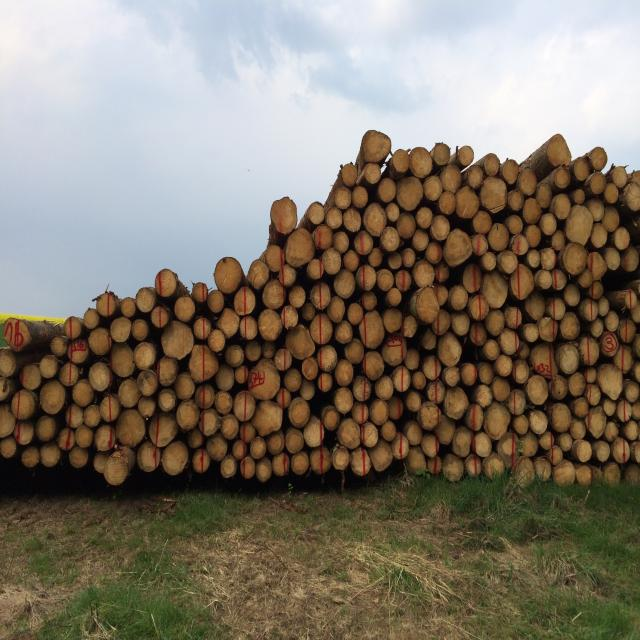wood-log: (248, 360, 282, 401), (413, 285, 447, 325), (162, 321, 195, 360), (188, 343, 220, 382), (116, 408, 148, 446), (564, 205, 593, 246), (102, 446, 132, 485), (288, 228, 316, 268), (480, 177, 509, 215), (445, 229, 474, 267), (255, 401, 285, 437), (216, 257, 245, 294), (150, 411, 179, 448), (272, 196, 300, 234), (76, 369, 104, 407), (363, 130, 394, 164), (485, 401, 512, 440), (288, 324, 317, 360), (361, 309, 387, 348), (482, 271, 510, 307), (510, 262, 536, 300), (599, 364, 625, 402), (162, 440, 190, 475), (444, 388, 473, 421), (39, 379, 67, 413), (398, 177, 425, 212), (108, 343, 135, 377), (554, 342, 581, 376), (547, 132, 573, 167), (562, 242, 588, 276), (439, 333, 465, 366), (528, 341, 553, 375), (454, 185, 480, 217), (383, 335, 408, 368), (12, 390, 38, 421), (260, 309, 284, 342), (371, 440, 394, 474), (363, 202, 387, 234), (234, 390, 258, 422), (175, 402, 200, 432), (333, 268, 357, 299), (339, 417, 362, 449), (219, 364, 247, 390), (526, 374, 550, 404), (524, 292, 548, 322), (549, 402, 572, 433), (90, 362, 113, 393), (138, 440, 160, 472), (462, 261, 484, 293), (310, 315, 332, 347), (580, 335, 602, 367), (20, 363, 44, 392), (158, 356, 182, 385), (587, 406, 608, 439), (89, 326, 112, 356), (288, 398, 311, 428), (157, 268, 180, 298), (444, 453, 467, 483), (264, 276, 286, 307), (118, 378, 140, 409), (248, 260, 270, 291), (436, 414, 458, 445), (412, 147, 433, 179), (624, 172, 640, 214), (454, 426, 475, 458), (361, 350, 384, 379), (485, 452, 508, 481), (234, 286, 256, 316), (206, 435, 229, 463), (136, 368, 159, 396), (441, 164, 463, 193), (560, 310, 581, 340), (488, 222, 509, 252), (218, 308, 239, 338), (411, 444, 431, 475), (174, 295, 196, 323), (37, 414, 59, 442), (134, 341, 156, 369), (174, 374, 196, 402), (414, 260, 436, 288), (330, 394, 352, 422), (190, 376, 212, 404), (518, 166, 539, 195), (390, 149, 411, 178), (264, 242, 284, 272), (517, 432, 540, 458), (0, 404, 17, 439), (110, 315, 132, 342), (68, 338, 90, 365), (417, 325, 439, 352), (214, 364, 235, 392), (495, 430, 513, 462), (333, 387, 355, 413), (196, 382, 218, 408), (98, 292, 120, 318), (306, 420, 325, 450), (522, 198, 543, 225), (73, 379, 94, 406), (485, 309, 506, 336), (571, 156, 592, 183), (321, 248, 341, 276), (101, 395, 121, 423), (473, 208, 494, 234), (317, 345, 338, 371), (419, 403, 440, 429), (467, 294, 488, 320), (383, 308, 404, 334), (378, 175, 398, 202), (600, 205, 620, 232), (499, 329, 519, 356), (352, 375, 372, 402), (274, 345, 294, 372), (95, 424, 114, 452), (314, 223, 333, 251), (621, 246, 640, 274), (434, 144, 456, 168), (380, 227, 401, 252), (346, 338, 366, 364), (335, 361, 355, 387), (136, 288, 156, 314), (432, 214, 452, 240), (449, 284, 469, 310), (334, 182, 354, 208), (370, 399, 389, 426), (538, 315, 557, 342), (358, 264, 377, 291), (0, 347, 17, 377), (466, 403, 483, 433), (202, 408, 220, 436), (554, 192, 572, 220), (60, 363, 81, 387), (342, 163, 363, 187), (433, 309, 451, 337), (74, 423, 94, 448), (226, 344, 246, 369), (351, 446, 367, 477), (321, 406, 340, 432), (328, 296, 347, 322), (501, 159, 519, 186), (68, 446, 90, 468), (552, 167, 572, 191), (16, 421, 36, 445), (396, 212, 416, 236), (469, 322, 489, 346), (424, 172, 441, 200), (207, 290, 226, 315), (354, 230, 373, 255), (422, 355, 441, 380), (589, 224, 607, 250), (515, 360, 533, 386), (392, 367, 410, 393), (284, 368, 302, 394), (144, 298, 162, 324), (498, 251, 518, 274), (588, 172, 608, 195), (603, 243, 620, 270), (343, 208, 362, 232), (563, 282, 582, 306), (51, 335, 70, 359), (288, 284, 307, 308), (589, 148, 608, 172), (66, 405, 84, 430), (602, 461, 620, 486), (508, 237, 526, 262), (614, 436, 630, 464), (335, 446, 352, 472), (222, 414, 239, 440), (569, 373, 586, 399), (269, 431, 286, 457), (510, 388, 527, 414), (158, 388, 178, 410), (492, 378, 512, 400), (475, 433, 494, 456), (39, 354, 58, 377), (552, 375, 568, 402), (376, 376, 394, 400), (466, 165, 484, 189), (452, 310, 470, 334), (406, 419, 424, 443), (534, 455, 550, 482), (624, 461, 640, 488), (530, 408, 547, 433), (286, 428, 303, 453), (389, 393, 404, 421), (512, 234, 531, 256), (42, 444, 60, 467), (336, 323, 354, 346), (308, 202, 326, 225), (416, 205, 434, 228), (120, 296, 138, 319), (594, 439, 611, 463), (292, 452, 309, 476), (362, 422, 379, 446), (509, 188, 526, 212), (406, 388, 423, 412), (425, 240, 442, 264), (348, 406, 365, 430), (461, 363, 477, 388), (194, 449, 210, 474), (240, 314, 256, 339), (392, 436, 408, 461), (150, 306, 169, 327), (621, 380, 640, 401), (302, 356, 320, 378), (539, 212, 557, 234), (23, 446, 41, 468), (208, 330, 226, 352), (475, 385, 493, 407), (246, 340, 264, 362), (535, 205, 553, 227), (426, 380, 444, 402), (507, 213, 525, 235), (220, 455, 237, 478), (325, 205, 342, 228), (347, 302, 364, 325), (0, 376, 15, 402), (58, 426, 74, 450), (66, 314, 82, 338), (587, 198, 606, 218), (348, 240, 367, 260), (0, 438, 18, 459), (570, 398, 588, 419), (364, 163, 382, 184), (311, 448, 325, 475), (576, 269, 594, 290), (422, 436, 440, 457), (552, 269, 570, 290), (441, 192, 456, 217), (85, 308, 102, 330), (413, 230, 430, 252), (378, 270, 395, 292), (603, 181, 619, 204), (574, 440, 590, 463), (194, 316, 210, 339), (86, 405, 102, 428), (283, 304, 298, 328), (482, 340, 500, 360), (258, 456, 273, 480), (479, 360, 494, 384), (138, 397, 156, 417), (614, 165, 632, 185), (444, 365, 462, 385), (386, 249, 404, 269), (615, 228, 632, 249), (187, 428, 204, 449), (404, 316, 421, 337), (134, 318, 150, 340), (280, 265, 296, 287), (307, 259, 323, 281), (250, 436, 266, 458), (396, 269, 412, 291), (466, 453, 480, 478), (217, 390, 232, 413), (603, 420, 620, 440), (335, 230, 351, 251), (458, 146, 474, 167), (496, 354, 512, 375), (353, 187, 368, 209), (506, 306, 521, 328), (625, 419, 640, 441), (584, 169, 602, 187), (254, 457, 268, 480), (344, 250, 360, 270), (514, 413, 530, 433), (522, 324, 538, 344), (276, 388, 292, 408), (300, 380, 316, 400), (386, 202, 402, 222), (275, 452, 288, 476), (552, 298, 566, 320), (227, 456, 241, 478), (386, 288, 403, 306), (290, 446, 307, 464), (318, 374, 334, 393), (482, 251, 498, 270), (352, 404, 368, 423), (526, 224, 541, 244), (234, 439, 248, 460), (553, 229, 567, 250), (383, 420, 398, 439), (413, 372, 428, 391), (370, 246, 384, 266), (539, 432, 554, 450), (590, 318, 605, 336), (559, 433, 573, 452), (406, 246, 418, 268), (570, 186, 586, 202), (243, 456, 255, 477), (541, 441, 556, 457), (588, 385, 600, 404), (558, 438, 570, 457), (551, 446, 565, 462), (206, 432, 228, 442), (191, 282, 201, 303), (0, 375, 8, 401), (631, 213, 640, 235), (569, 189, 580, 207), (633, 335, 640, 361), (632, 442, 640, 464), (632, 359, 640, 381)
